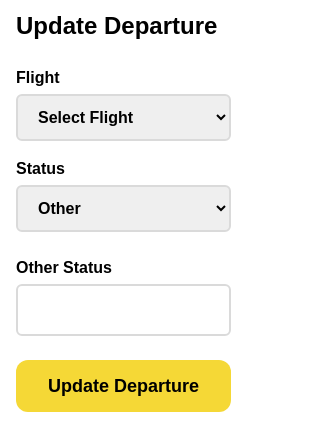
Test: DeparturesForm › status change › resets status other
The width and height of the screenshot is (320, 429).
Select "Departed" in the dropdown with id "update-status" at (124, 208), box [16,185,231,232]
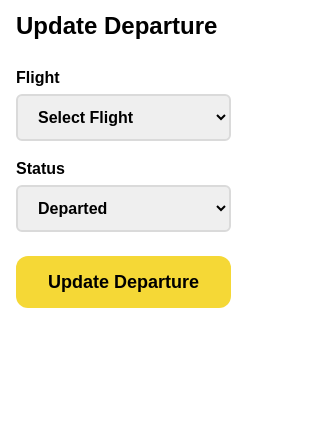
Expected: the label with id "update-status-other" is gone
